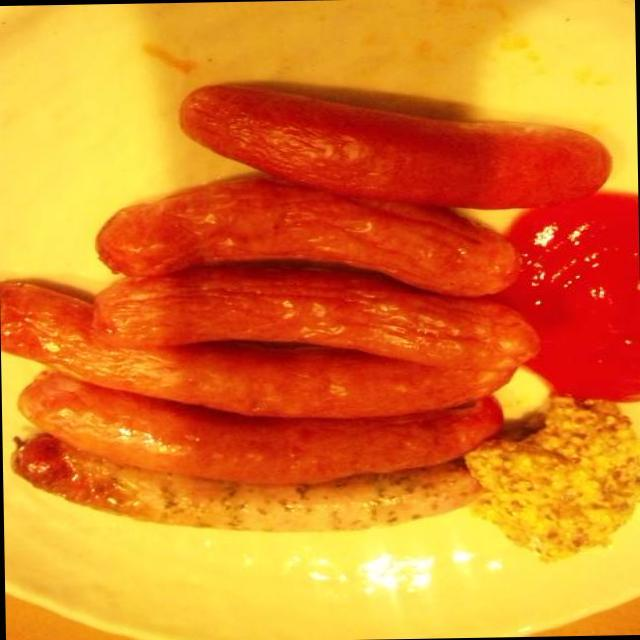Sausage: (7, 56, 562, 571)
